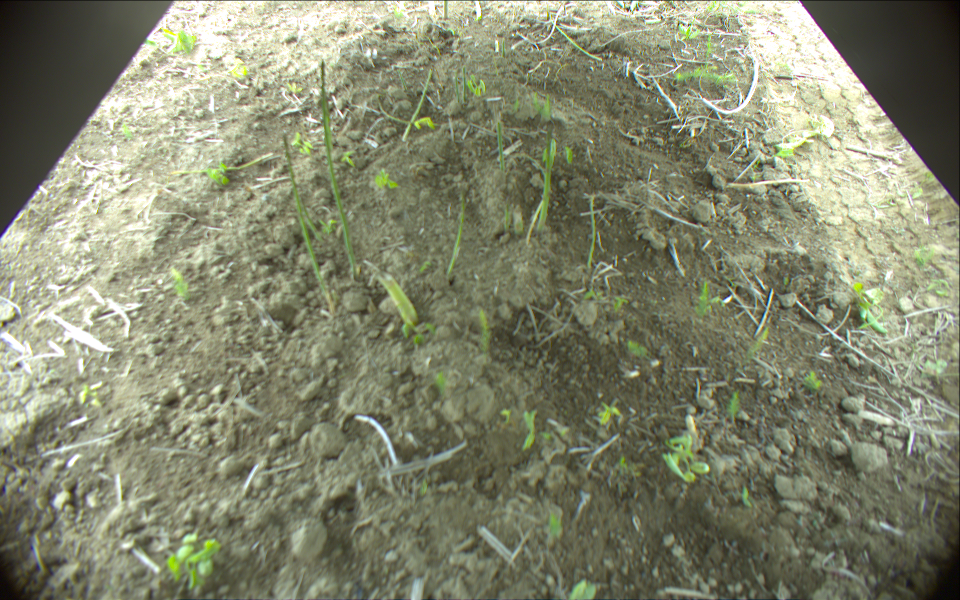aspa: (320, 58, 357, 277), (282, 136, 328, 301), (374, 272, 421, 329), (549, 11, 600, 61), (169, 153, 274, 177), (404, 69, 431, 142), (446, 188, 463, 277), (541, 120, 555, 227), (494, 118, 507, 184), (440, 1, 450, 19)
